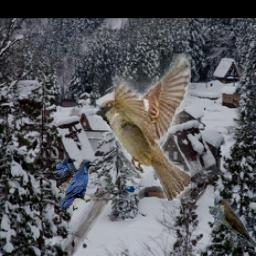Crow: (56, 160, 96, 212)
Cuckoo: (215, 200, 256, 248)
Sparrow: (94, 53, 191, 201)
